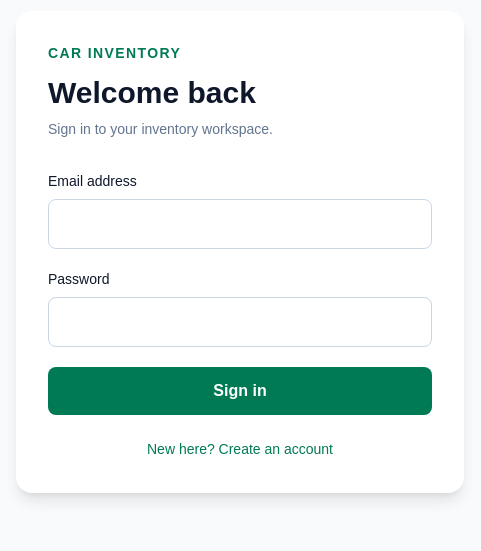
Scenario: shows a login error without signing in
Type "user@example.com" into the field labelled "Email address" at [240, 224], box [48,199,432,249]
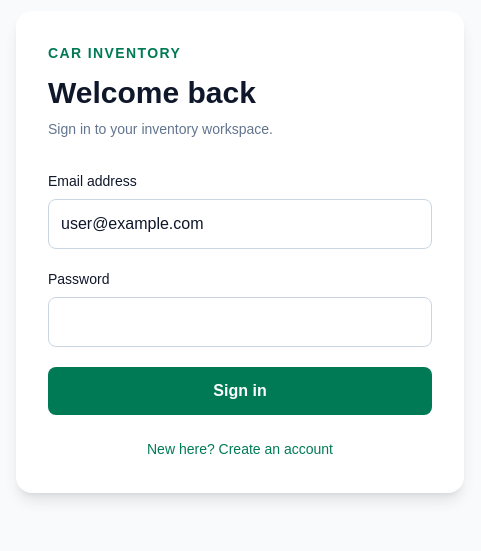
Type "StrongPassword123!" into the password field labelled "Password" at [240, 322], box [48,297,432,347]
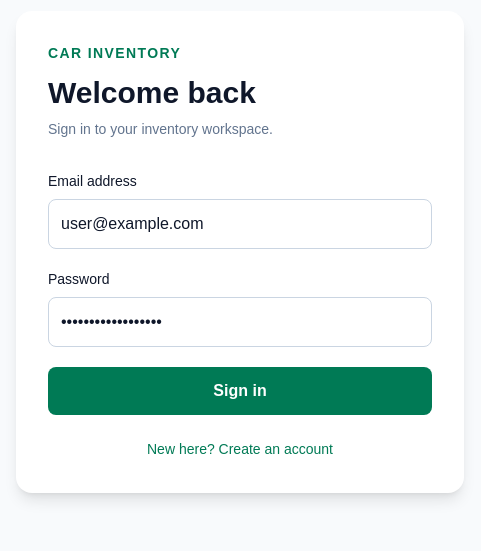
Click the button "Sign in" at [240, 391], box [48,367,432,415]
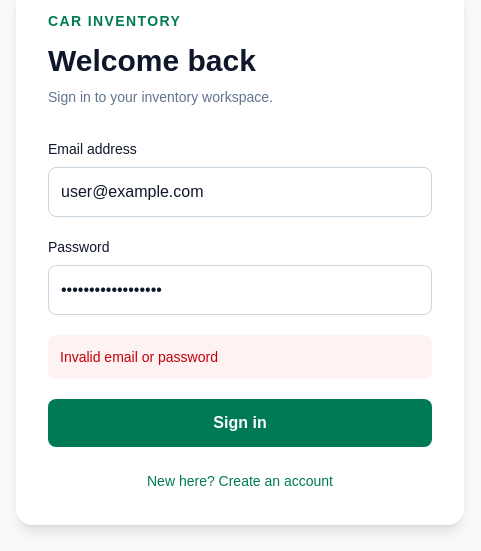
Expected: the message reads "Invalid email or password", [60,349,218,365]
